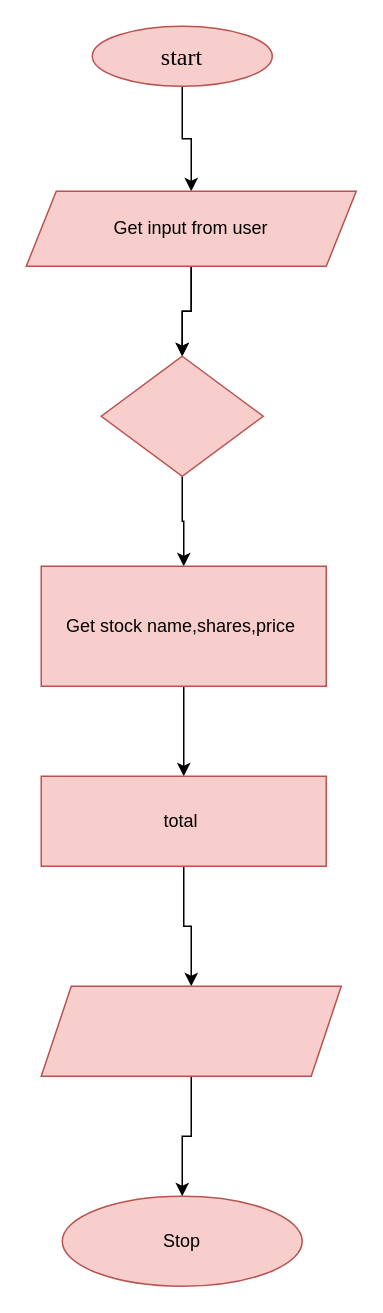
Image size: 383x1313. Some labels were removed from this diagram. Each missing label, with the centre of its shape:
"Print result" goes at point 190,1030.
"using for loop" goes at point 181,415.
